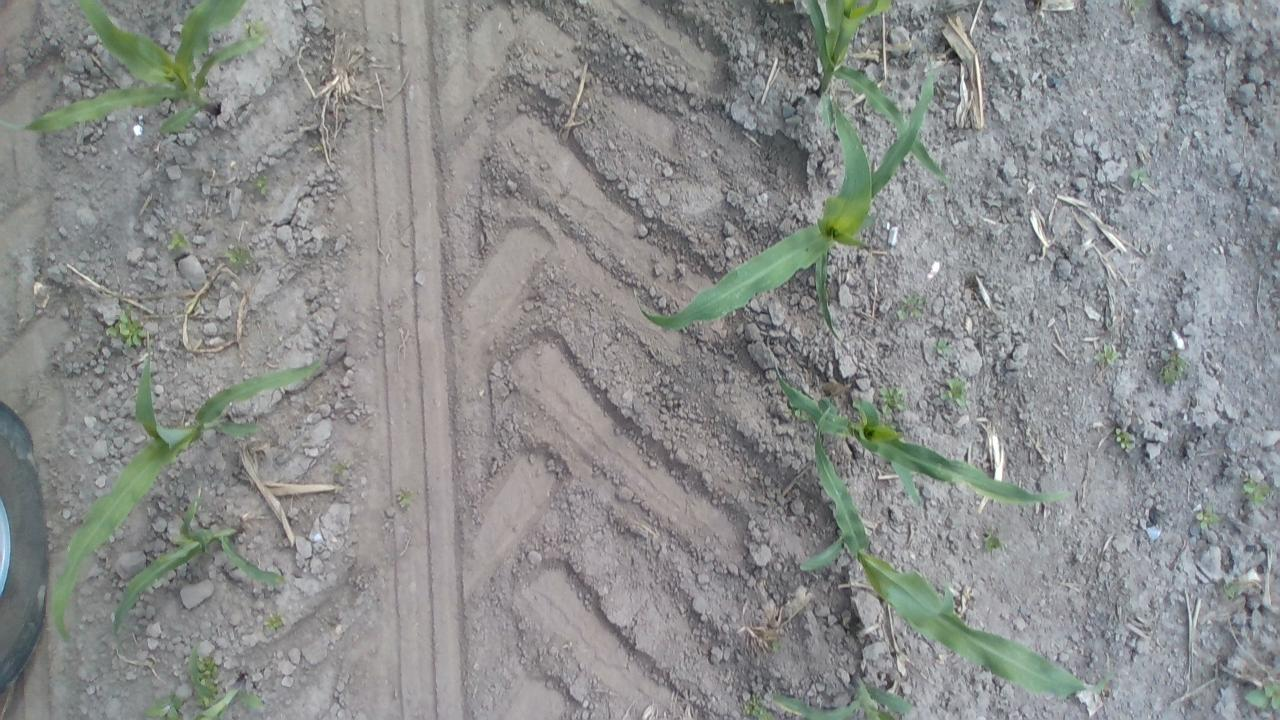Maize: (800, 406, 1110, 700), (635, 48, 934, 346), (50, 350, 321, 644), (772, 352, 1076, 510), (0, 0, 268, 135), (796, 0, 956, 190), (109, 489, 282, 644), (159, 643, 260, 720), (772, 672, 916, 720)
Weeds: (104, 302, 148, 350), (191, 654, 219, 708), (142, 689, 185, 720), (1242, 680, 1280, 712), (1158, 351, 1188, 387), (742, 694, 778, 720), (1239, 476, 1269, 507), (896, 293, 927, 322), (939, 377, 969, 406), (879, 386, 908, 415), (222, 244, 255, 268), (1092, 343, 1121, 367), (1194, 505, 1221, 530), (242, 16, 270, 40), (1112, 427, 1136, 450), (982, 526, 1002, 552), (251, 171, 270, 196), (165, 231, 188, 251), (789, 400, 810, 421), (932, 338, 955, 356), (262, 612, 284, 630), (1130, 166, 1148, 188), (396, 489, 414, 507), (1128, 0, 1146, 16), (1222, 582, 1238, 598), (770, 640, 780, 652)
